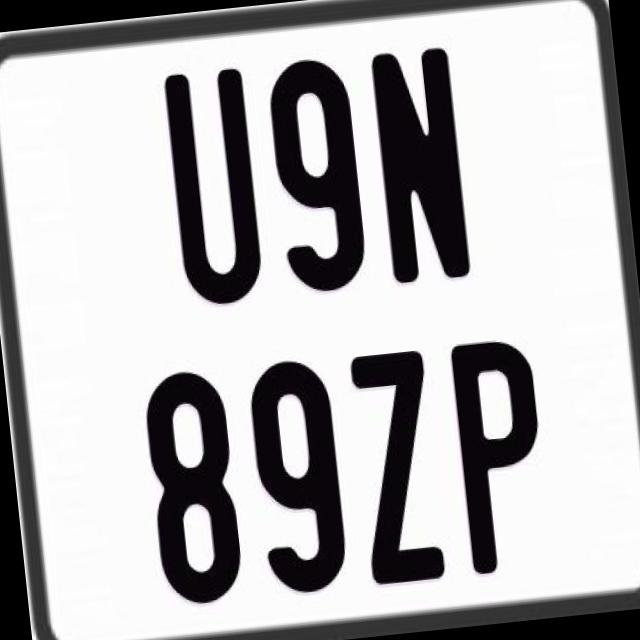8: (140, 367, 246, 613)
9: (246, 354, 356, 600), (260, 51, 364, 293)
N: (368, 42, 472, 282)
P: (448, 336, 556, 578)
U: (158, 62, 268, 306)
Z: (346, 347, 444, 583)
